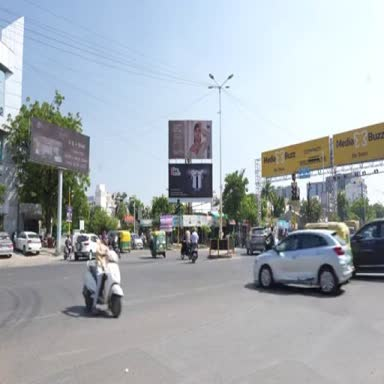Car: (254, 230, 352, 293), (351, 219, 383, 274), (15, 232, 41, 256), (74, 234, 98, 260), (247, 227, 268, 254), (0, 232, 14, 258), (131, 234, 142, 249), (349, 227, 356, 238)
